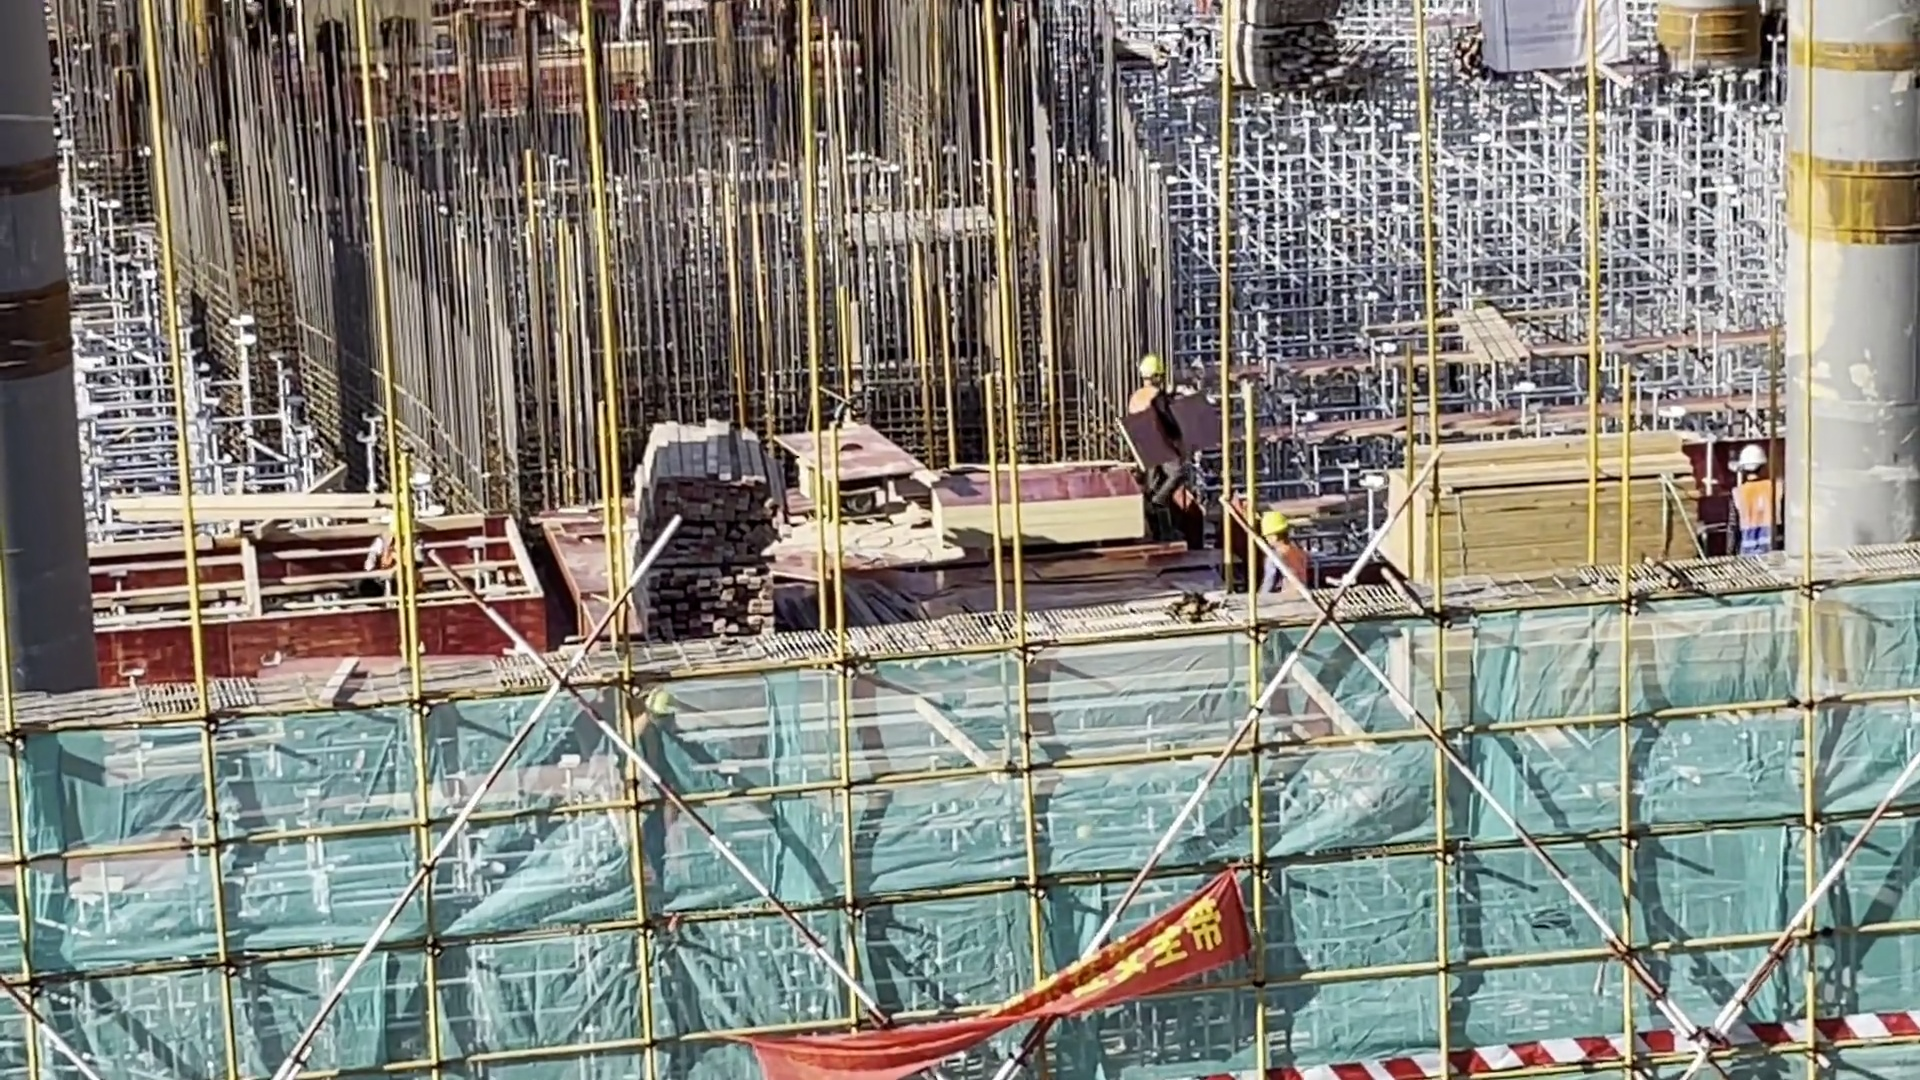helmet: (1251, 497, 1293, 546), (1728, 438, 1775, 475), (1134, 352, 1173, 385)
person: (1121, 353, 1212, 541), (1721, 441, 1799, 569), (1247, 506, 1319, 600)
vest: (1730, 472, 1788, 546)
